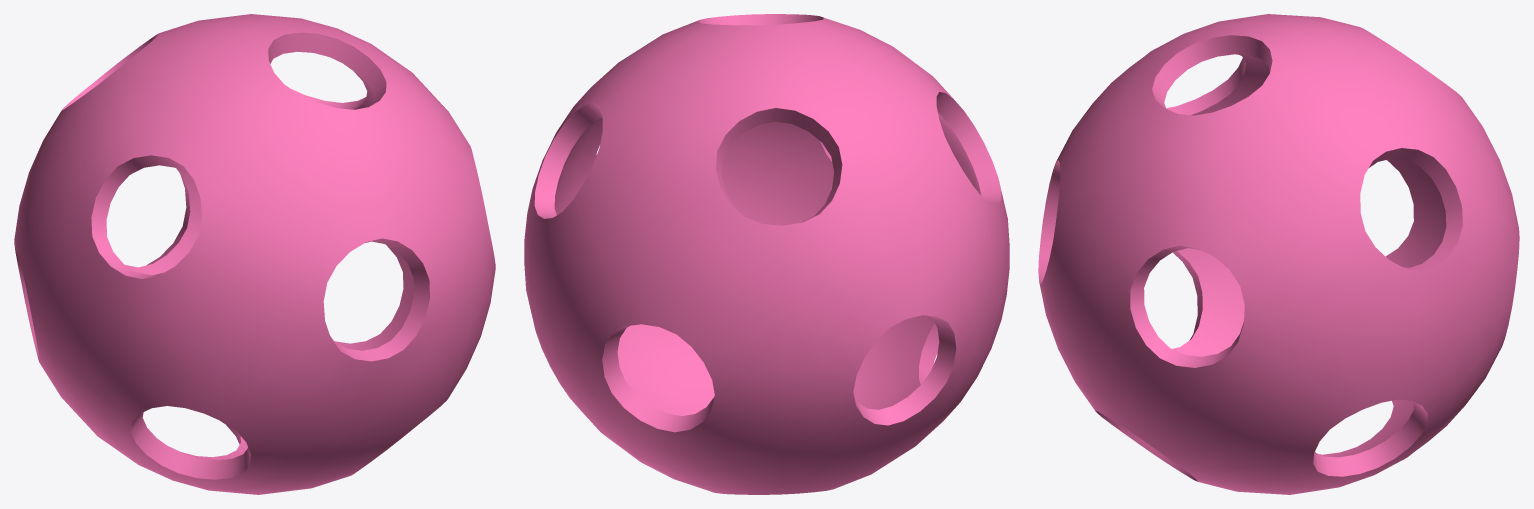
File: Pickleball_Pink.fbx
3 renders of one model, left to right at view 1: azimuth 30°, elevation 25°; view 2: azimuth 150°, elevation 25°; view 3: azimuth 270°, elevation 25°, orthographic.
Parts seen in each view (by area): view 1: Pickleball_Pink; view 2: Pickleball_Pink; view 3: Pickleball_Pink.
Boxes of the visible parts, <box> form: Pickleball_Pink: <box>14,14,495,494</box>; Pickleball_Pink: <box>524,14,1009,494</box>; Pickleball_Pink: <box>1038,14,1519,494</box>.
Size of the model in its own units: 92.7 by 92.6 by 92.6.
